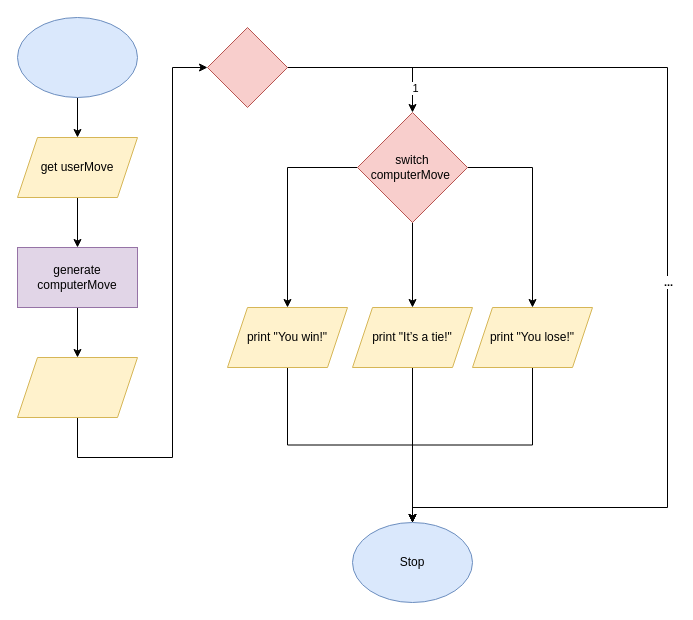
Some shapes in this 693 by 620 pixel diagram are drawn without their labels. Here are the shapes that lost their labels. From the top down, the centre of each, then its label:
[77,57]: Start
[247,67]: switch userMove
[77,387]: print userMove and computerMove
